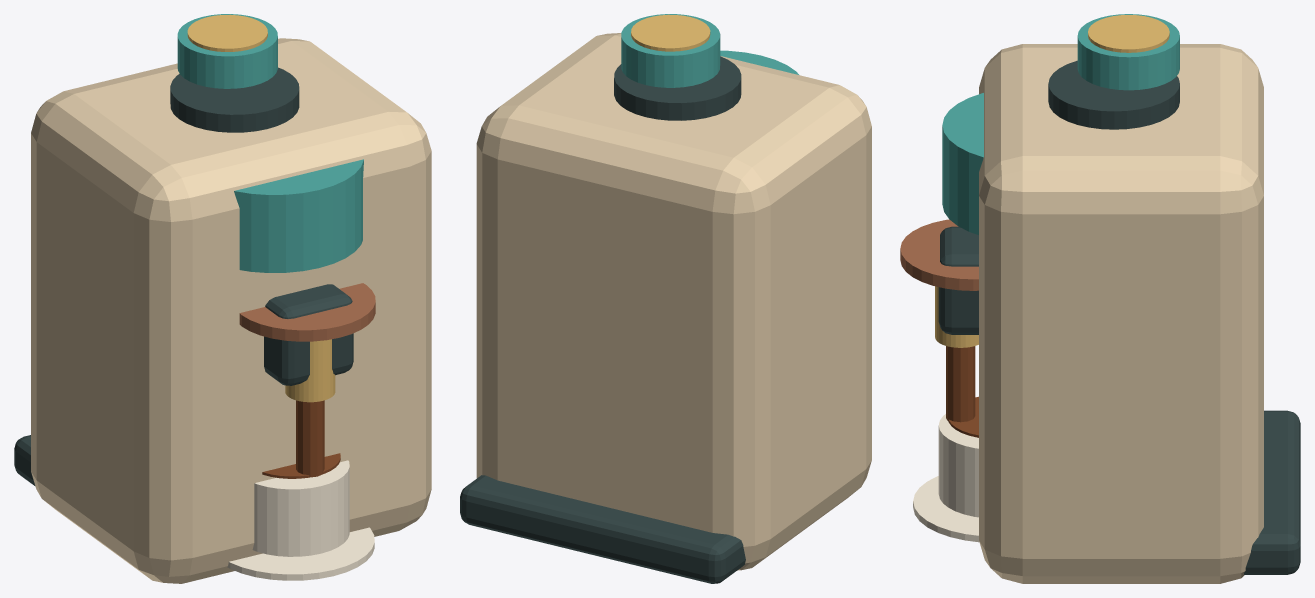
Rendered from capsule-latte-machine.glb.
3 views of the same model, side by side, from view 1: azimuth 30°, elevation 25°; view 2: azimuth 150°, elevation 25°; view 3: azimuth 270°, elevation 25° (orthographic). The views are drawn at different scales.
Visible parts, largest first — view 1: MachineBody, LatteCup, WaterTank, Capsule, TopDial, SpoutBlock, FrontRing, LatteStream, Spout, DripTray; view 2: MachineBody, DripTray, Capsule, TopDial, WaterTank; view 3: MachineBody, Capsule, DripTray, LatteCup, TopDial, WaterTank, SpoutBlock, FrontRing, LatteStream, Spout.
Part boxes in pixels (<box>): MachineBody: <box>31,38,431,583</box>; LatteCup: <box>227,453,374,580</box>; WaterTank: <box>234,159,363,272</box>; Capsule: <box>177,14,277,88</box>; TopDial: <box>170,67,299,132</box>; SpoutBlock: <box>264,284,353,385</box>; FrontRing: <box>239,283,375,341</box>; LatteStream: <box>296,400,324,477</box>; Spout: <box>285,339,335,402</box>; DripTray: <box>14,435,35,485</box>; MachineBody: <box>476,33,871,570</box>; DripTray: <box>460,475,745,583</box>; Capsule: <box>621,14,720,87</box>; TopDial: <box>614,56,741,120</box>; WaterTank: <box>720,50,798,74</box>; MachineBody: <box>979,44,1263,583</box>; Capsule: <box>1077,14,1179,90</box>; DripTray: <box>1244,410,1300,574</box>; LatteCup: <box>913,396,979,542</box>; TopDial: <box>1048,60,1179,129</box>; WaterTank: <box>942,93,983,234</box>; SpoutBlock: <box>938,226,978,334</box>; FrontRing: <box>900,219,978,290</box>; LatteStream: <box>946,346,975,422</box>; Spout: <box>935,286,978,347</box>.
Bounding box in the file's own units: 0.94 × 1.49 × 1.09.
